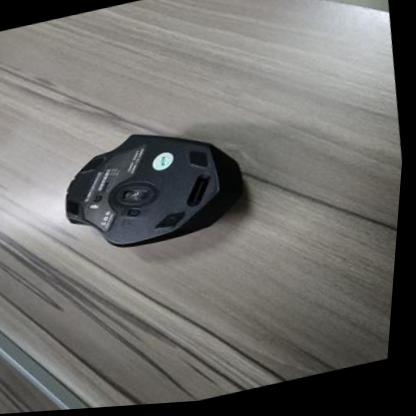mouserotation: (53, 111, 256, 263)
